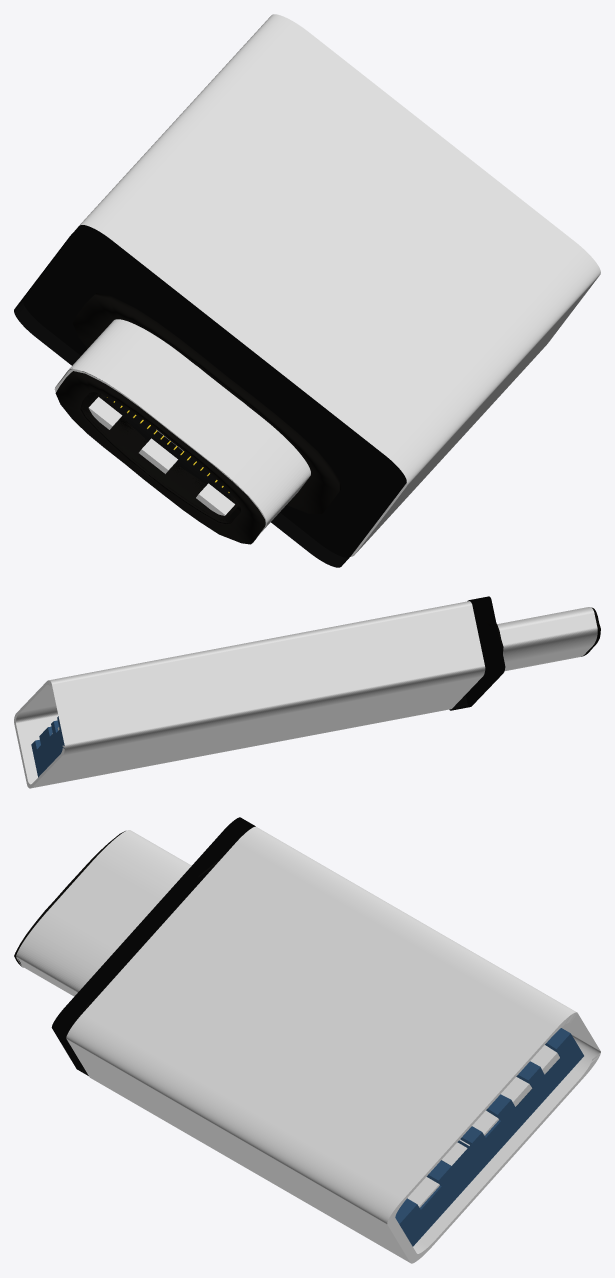
The model's file is usb_type-c.glb.
3 renders of one model, top to bottom at view 1: azimuth 30°, elevation 25°; view 2: azimuth 150°, elevation 25°; view 3: azimuth 270°, elevation 25°, orthographic. The views are drawn at different scales.
Parts seen in each view (by area): view 1: Object_4; view 2: Object_4; view 3: Object_4.
Part boxes in pixels (x1=…): Object_4: x1=14, y1=14, x2=600, y2=567; Object_4: x1=14, y1=596, x2=600, y2=788; Object_4: x1=14, y1=817, x2=600, y2=1263.
Bounding box in the file's own units: 3.15 × 1.43 × 3.14.
Materials: 1 (1 with a texture image).
